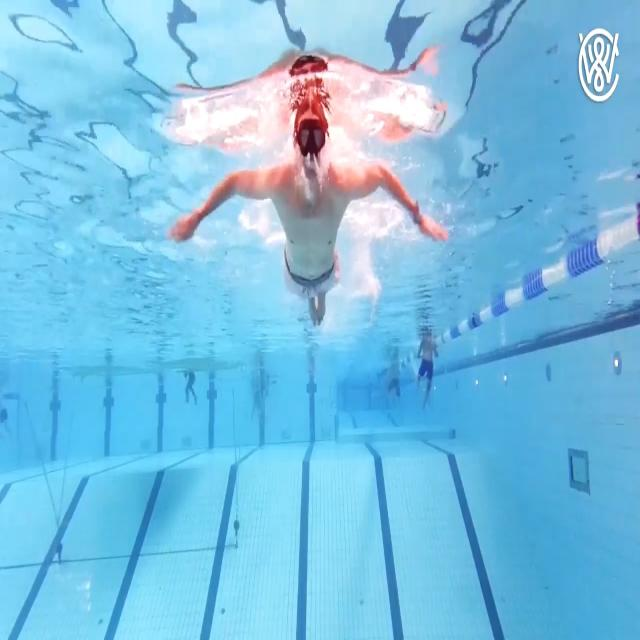Swimming: (170, 102, 448, 327)
